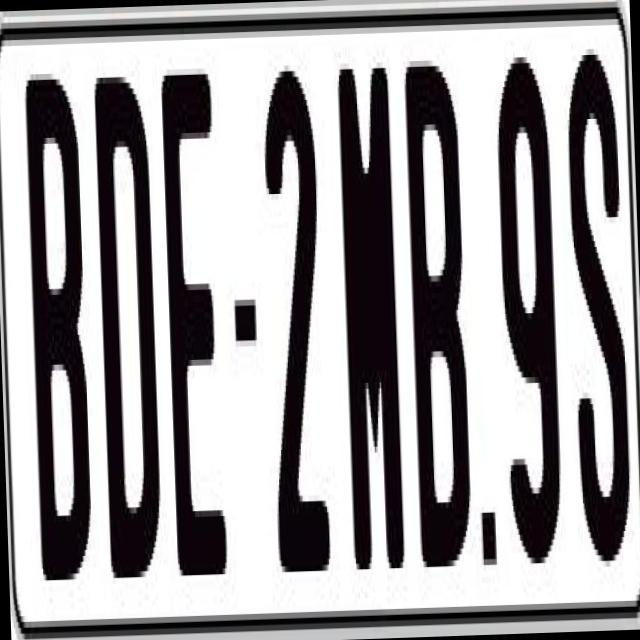2: (260, 51, 340, 590)
9: (490, 44, 566, 564)
B: (20, 78, 92, 610), (403, 59, 477, 573)
D: (89, 59, 158, 578)
E: (158, 55, 232, 588)
M: (337, 67, 407, 570)
S: (560, 36, 620, 544)
